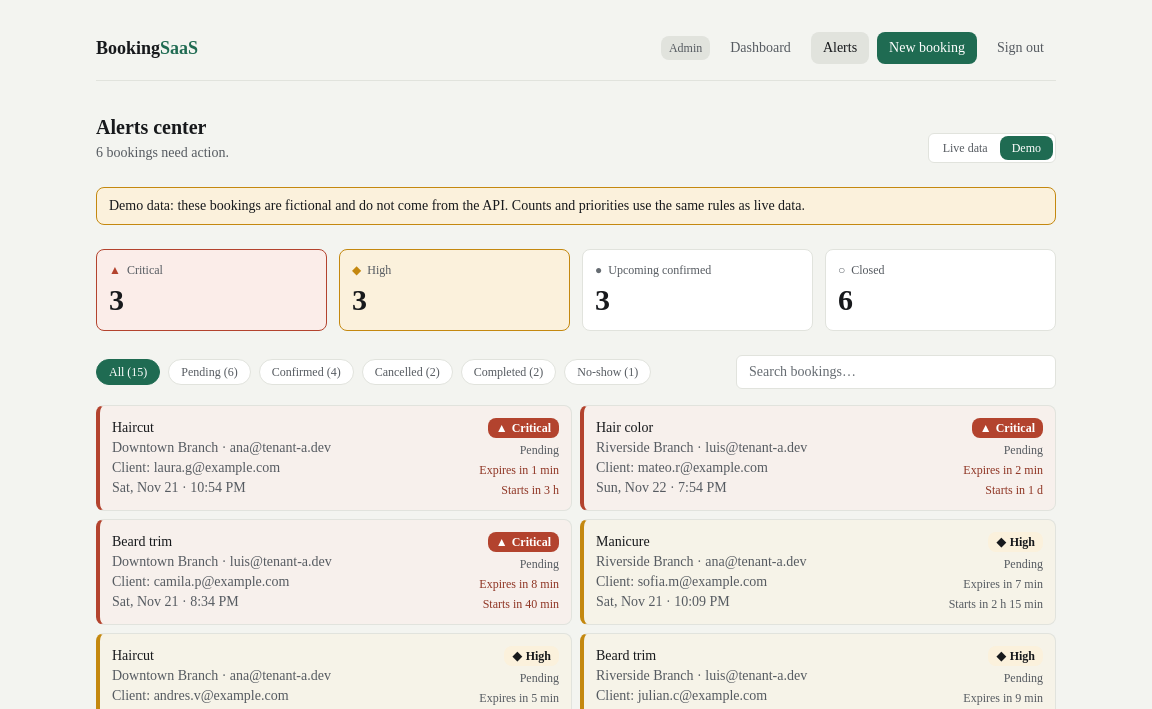
Test: /alerts — demo mode › shows the finished CONFIRMED booking under the Confirmed chip, labelled as ended
The image size is (1152, 709).
Click the button "Confirmed (4)" at (306, 372), box [259,359,354,385]
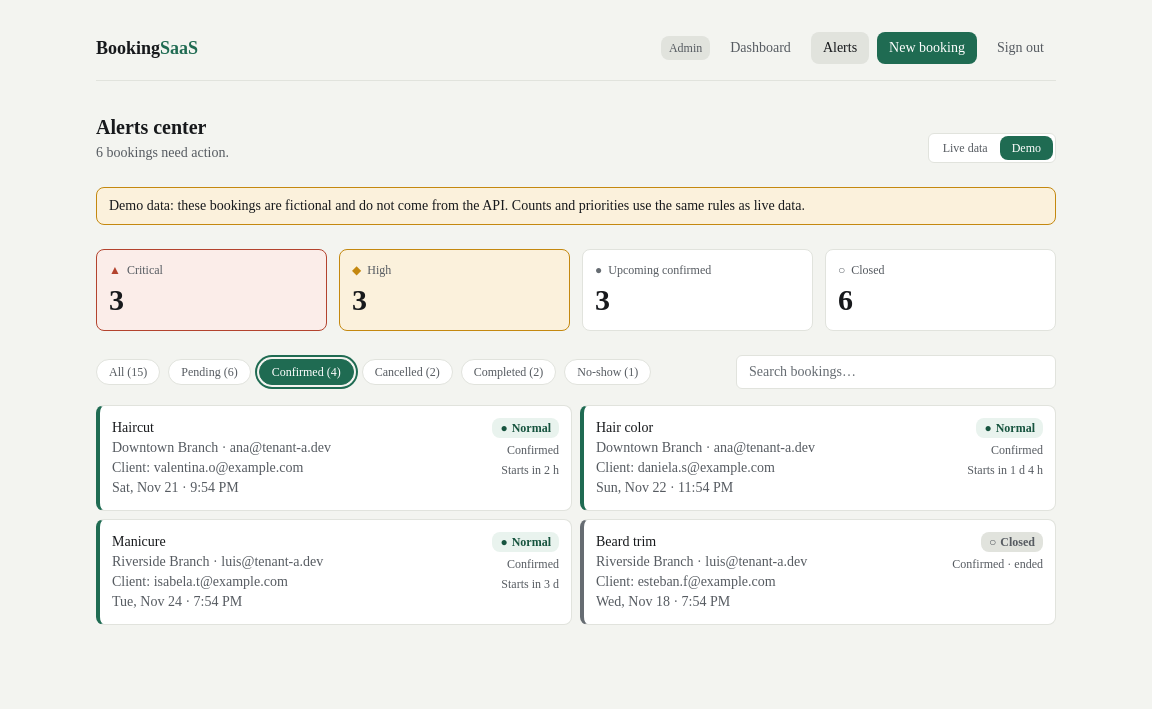
Expected: the text "Confirmed · ended" is shown once, [952,556,1043,572]
Expected: the list item that starts with "Beard trim" shows "Closed", [1000,535,1035,549]
